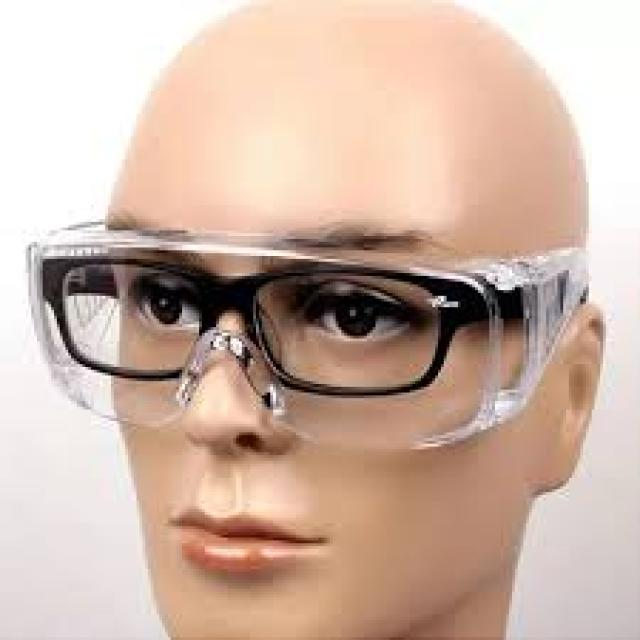oculos-epi: (18, 225, 600, 449)
